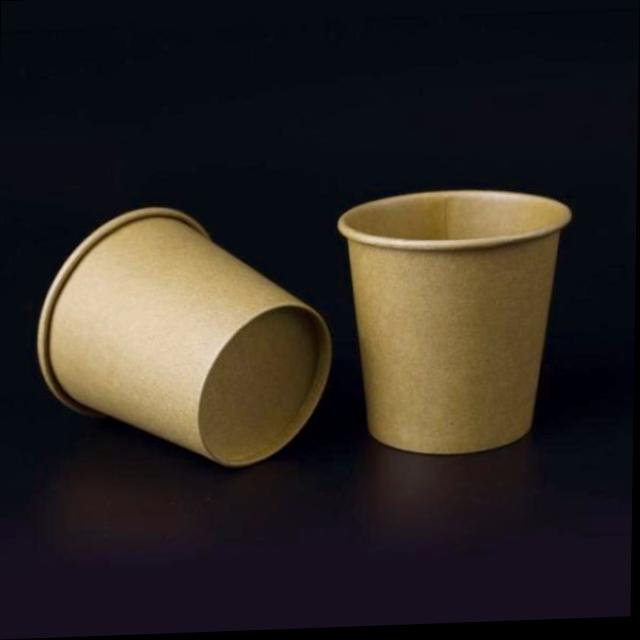Cup: (34, 195, 346, 478), (335, 183, 579, 463)
